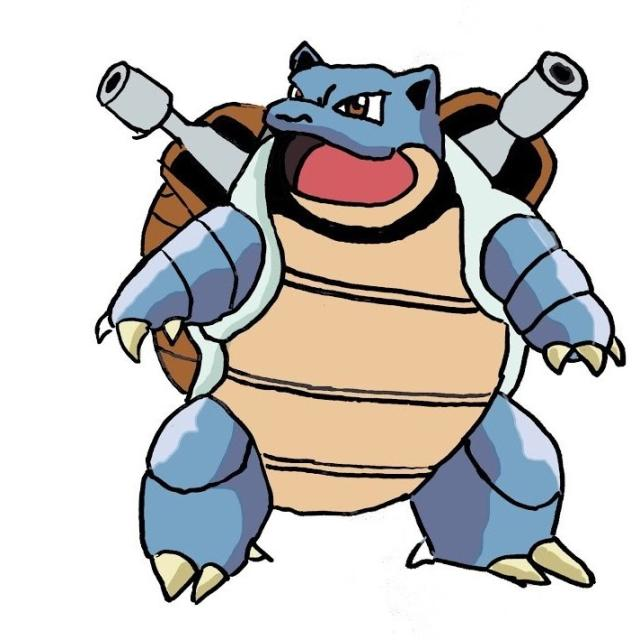Blastoise: (130, 46, 575, 568)
